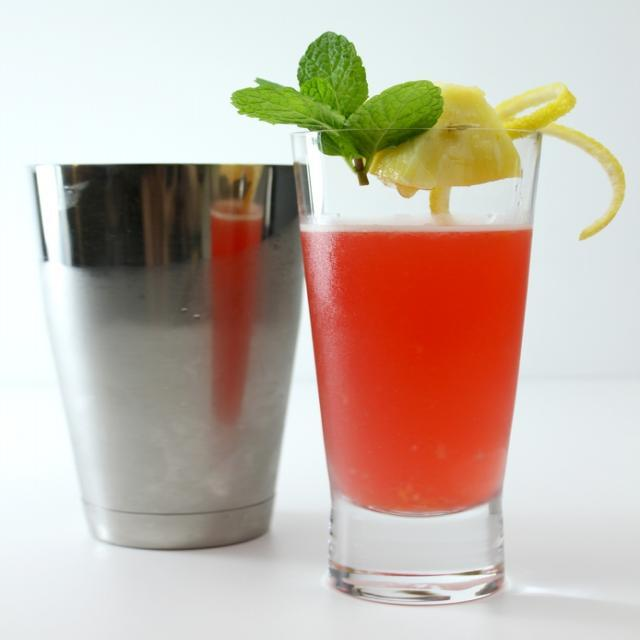Juice: (297, 219, 533, 519)
